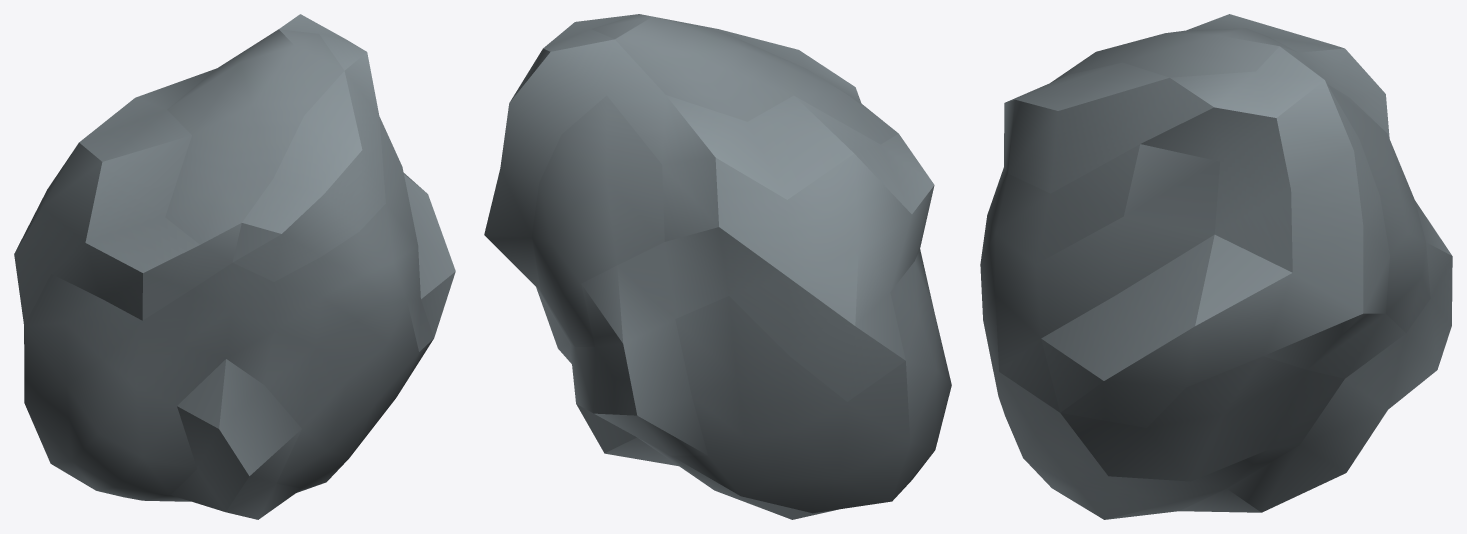
File: Rock_3_N_Color1.glb
3 views of the same model, side by side, from view 1: azimuth 30°, elevation 25°; view 2: azimuth 150°, elevation 25°; view 3: azimuth 270°, elevation 25° (orthographic). The views are drawn at different scales.
Visible parts, largest first — view 1: Rock_3_N_Color1; view 2: Rock_3_N_Color1; view 3: Rock_3_N_Color1.
Boxes of the visible parts, box(x1,y1,x2,y2) form: Rock_3_N_Color1: box(14, 14, 455, 519); Rock_3_N_Color1: box(484, 14, 951, 519); Rock_3_N_Color1: box(980, 14, 1452, 519).
Bounding box in the file's own units: 3.42 × 3.53 × 2.98.
1 material, 1 textured.
